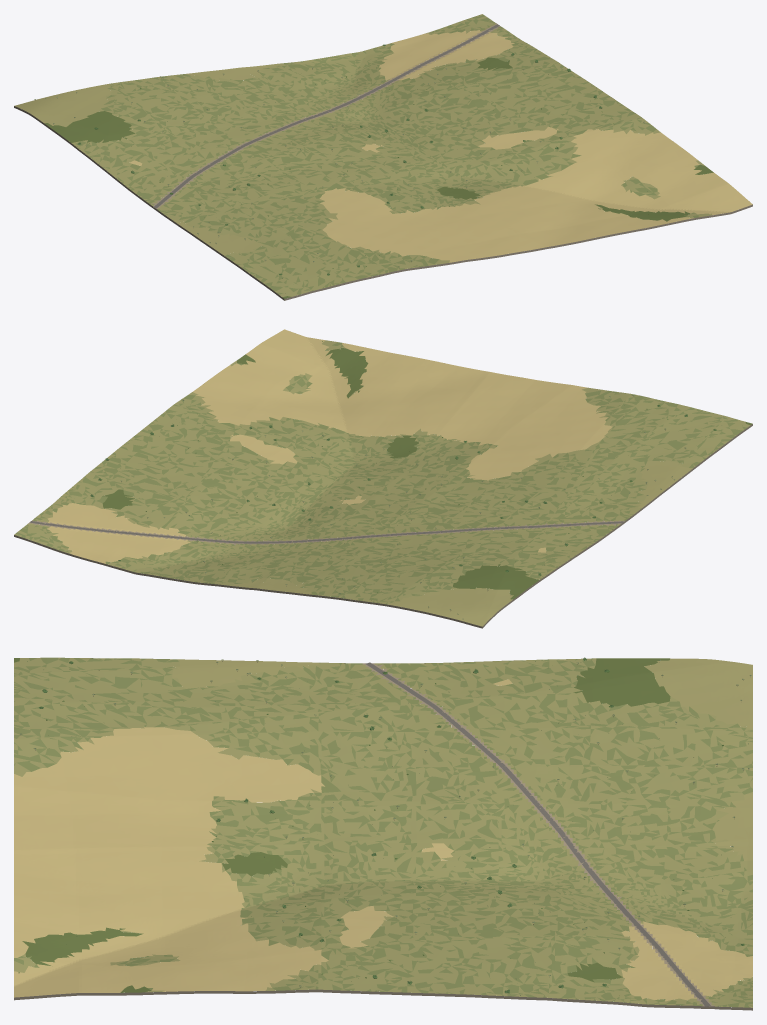
Rendered from parca_-2_-2-yakin.glb.
The picture shows the model from 3 angles, top to bottom: view 1: azimuth 30°, elevation 25°; view 2: azimuth 150°, elevation 25°; view 3: azimuth 270°, elevation 25°; orthographic projection. The views are drawn at different scales.
Parts seen in each view (by area): view 1: parca_-2_-2_arazi, parca_-2_-2_yollar, parca_-2_-2_bitkiler; view 2: parca_-2_-2_arazi, parca_-2_-2_yollar, parca_-2_-2_bitkiler; view 3: parca_-2_-2_arazi, parca_-2_-2_yollar, parca_-2_-2_bitkiler.
Part boxes in pixels (x1,y1,x2,y2): parca_-2_-2_arazi: [14, 14, 752, 300]; parca_-2_-2_yollar: [153, 24, 499, 208]; parca_-2_-2_bitkiler: [34, 44, 711, 278]; parca_-2_-2_arazi: [14, 329, 752, 628]; parca_-2_-2_yollar: [30, 521, 623, 543]; parca_-2_-2_bitkiler: [72, 341, 716, 619]; parca_-2_-2_arazi: [14, 657, 752, 1010]; parca_-2_-2_yollar: [365, 662, 710, 1006]; parca_-2_-2_bitkiler: [18, 657, 751, 999].
Bounding box in the file's own units: 1003 × 87.25 × 1000.
